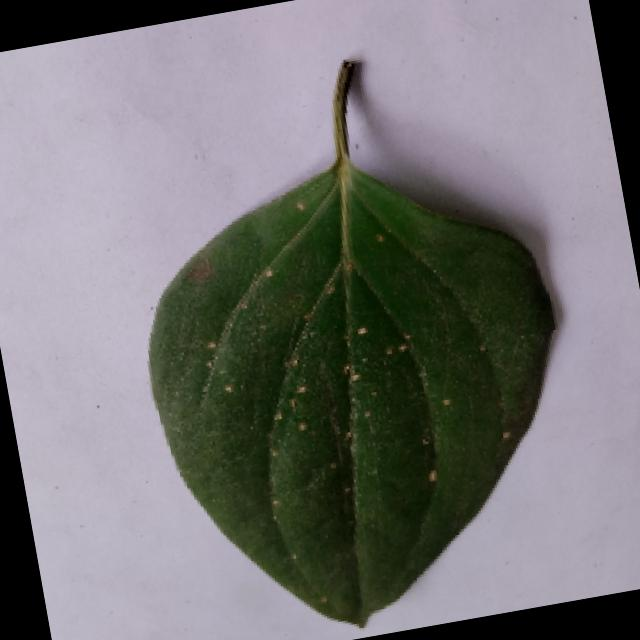pollu-disease: (104, 37, 607, 640)
